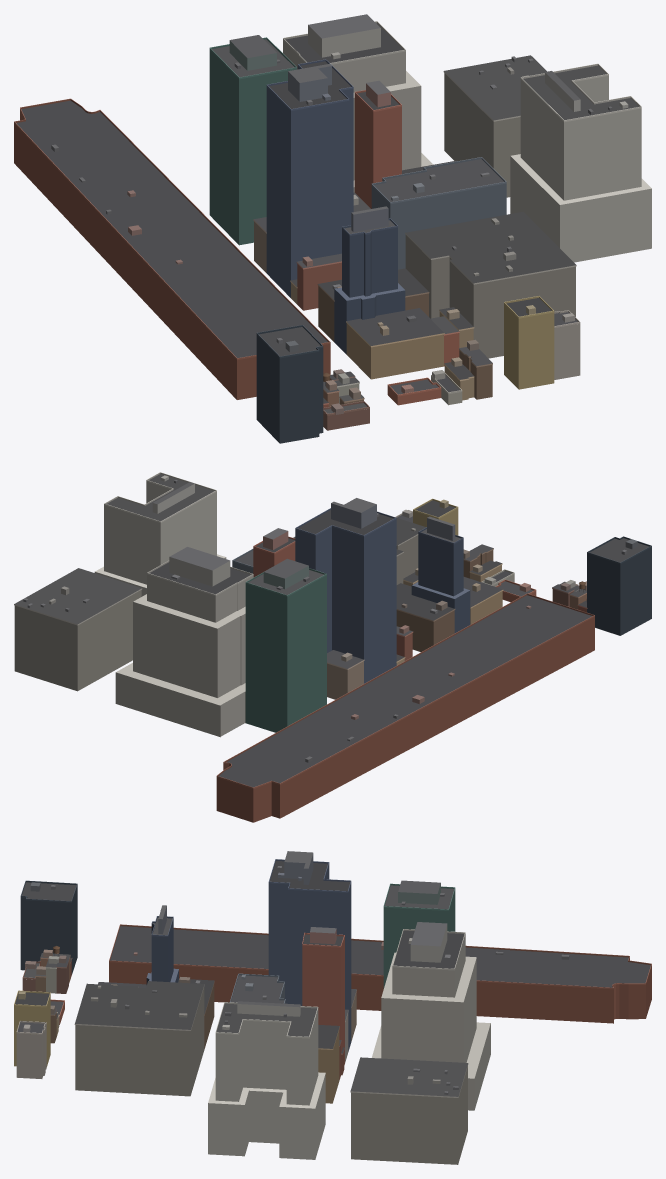
File: -8_-14.bld.glb
3 views of the same model, one above another, from view 1: azimuth 30°, elevation 25°; view 2: azimuth 150°, elevation 25°; view 3: azimuth 270°, elevation 25° (orthographic). The views are drawn at different scales.
Parts seen in each view (by area): view 1: -8_-14; view 2: -8_-14; view 3: -8_-14.
Part boxes in pixels (x1=…): -8_-14: x1=14, y1=14, x2=651, y2=443; -8_-14: x1=14, y1=472, x2=651, y2=822; -8_-14: x1=14, y1=851, x2=651, y2=1164.
Bounding box in the file's own units: 281 × 110 × 361.
